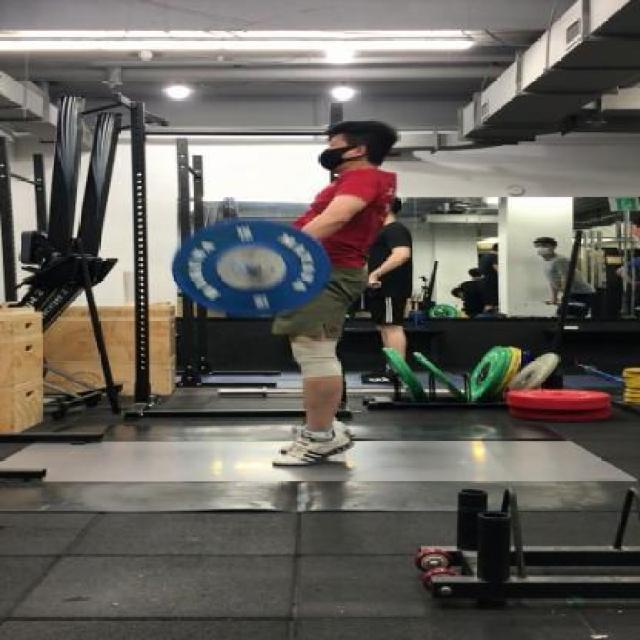barbell: (170, 214, 334, 325)
